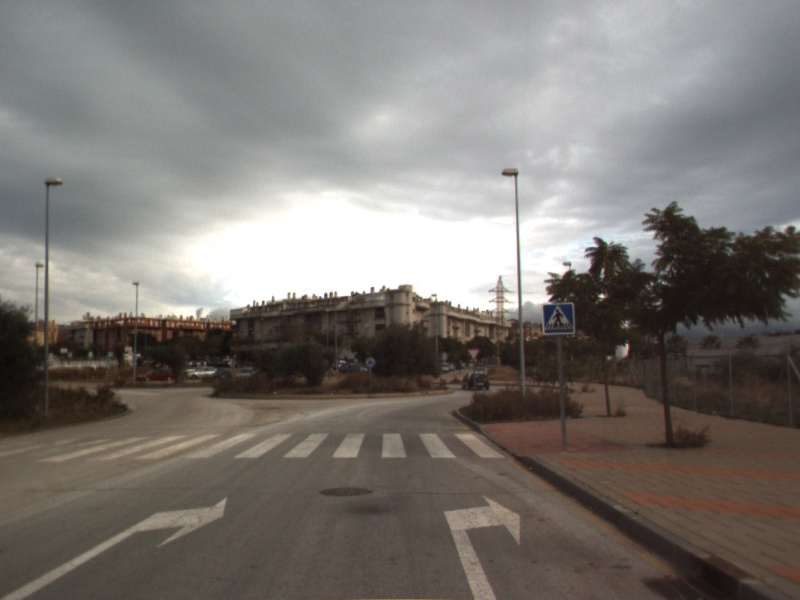RIGHT: (1, 494, 229, 600), (441, 493, 523, 600)
